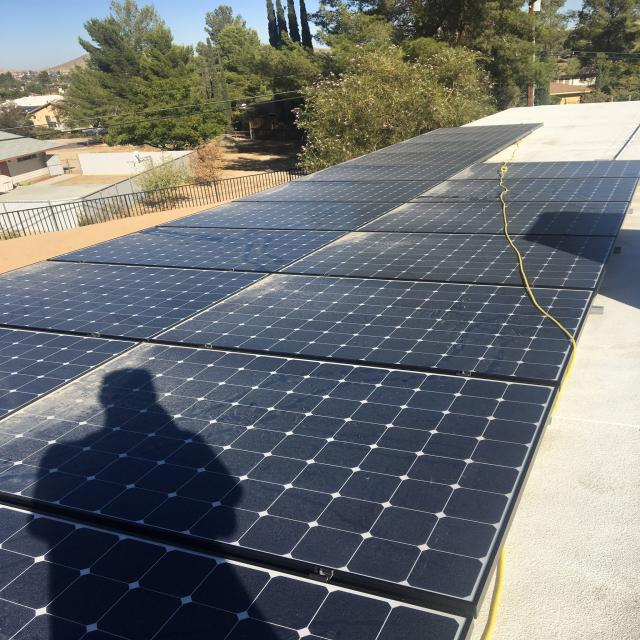dust-solar-panel: (0, 159, 640, 640)
